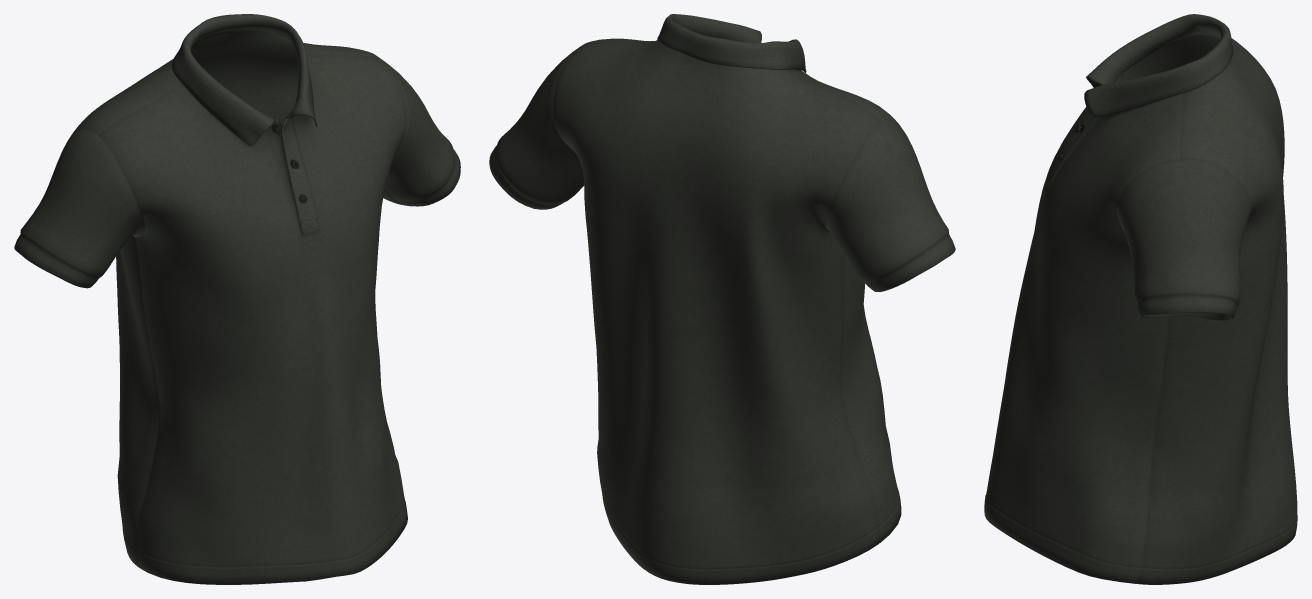
File: tshirt-default.glb
3 renders of one model, left to right at view 1: azimuth 30°, elevation 25°; view 2: azimuth 150°, elevation 25°; view 3: azimuth 270°, elevation 25°, orthographic. The views are drawn at different scales.
Visible parts, largest first — view 1: Tshirt 1; view 2: Tshirt 1; view 3: Tshirt 1.
Part boxes in pixels (<box>): Tshirt 1: <box>14,14,460,584</box>; Tshirt 1: <box>489,14,955,584</box>; Tshirt 1: <box>984,14,1297,584</box>.
Bounding box in the file's own units: 0.6433 × 0.7101 × 0.4024.
2 materials, 2 textured.
